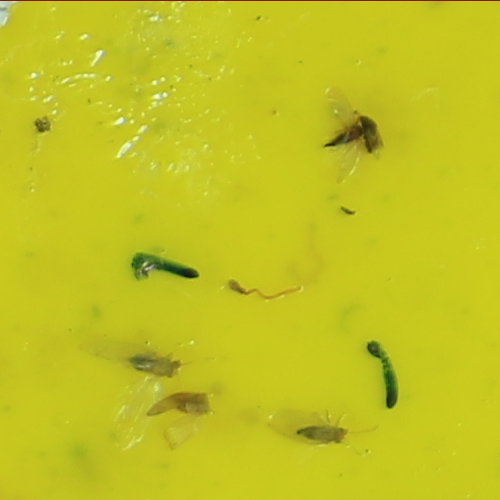Glycaspis: (293, 424, 355, 447), (125, 357, 188, 379)
Platyobria: (171, 388, 218, 418)
